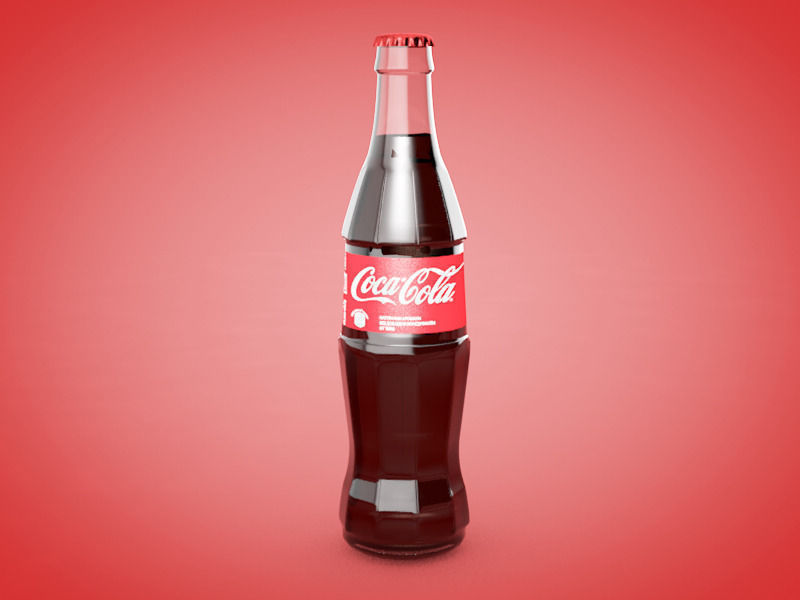coke: (353, 45, 474, 556)
